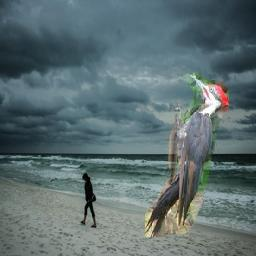Woodpecker: (145, 73, 229, 237)
